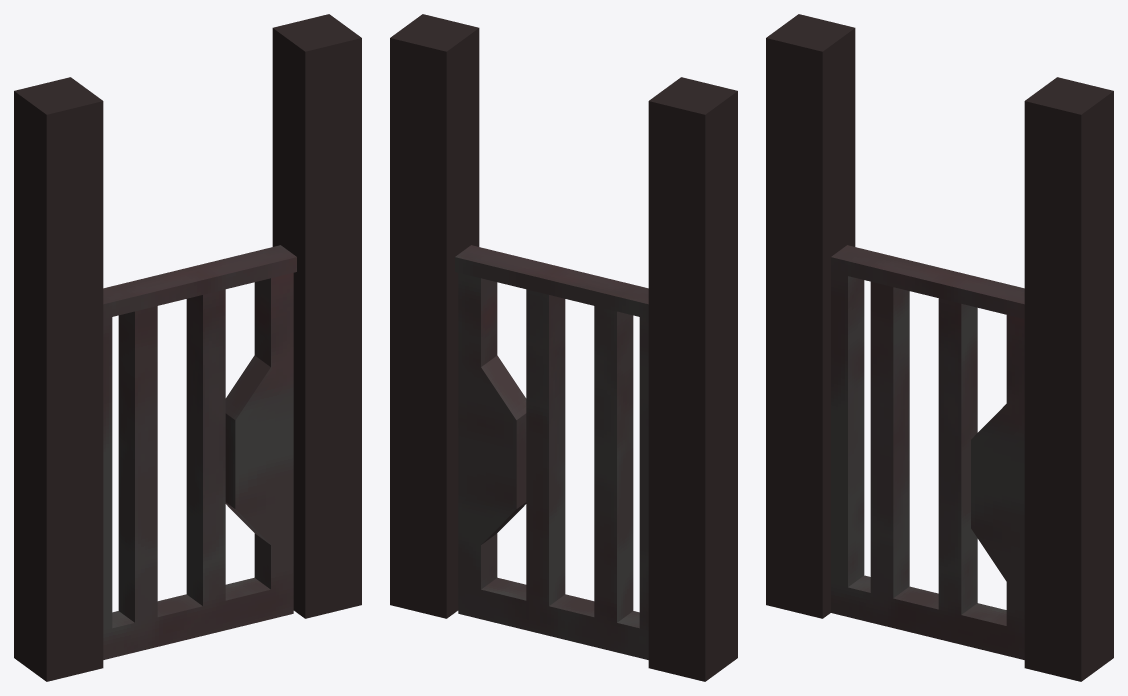
File: gate_door.gltf
3 renders of one model, left to right at view 1: azimuth 30°, elevation 25°; view 2: azimuth 150°, elevation 25°; view 3: azimuth 330°, elevation 25°, orthographic.
Parts seen in each view (by area): view 1: mesh (×3); view 2: mesh (×3); view 3: mesh (×3).
Part boxes in pixels (x1=…): mesh (×3): x1=14, y1=14, x2=361, y2=681; mesh (×3): x1=390, y1=14, x2=737, y2=681; mesh (×3): x1=766, y1=14, x2=1113, y2=681.
Bounding box in the file's own units: 1.39 × 2.39 × 0.25.
Materials: 2 (2 with a texture image).
